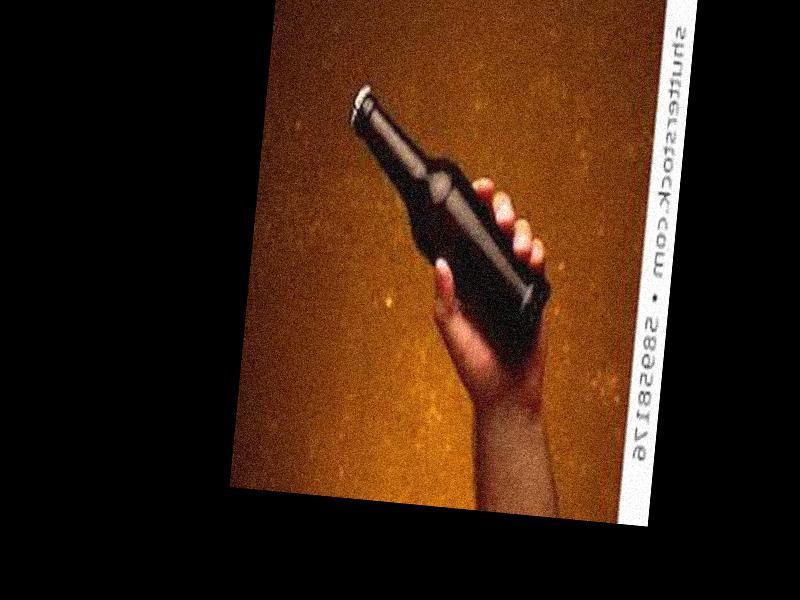Beer: (325, 79, 568, 379)
